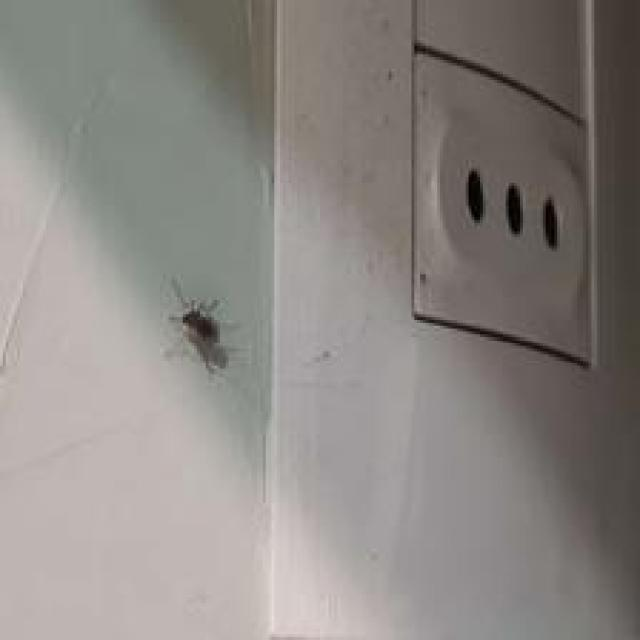Culex: (164, 276, 239, 376)
